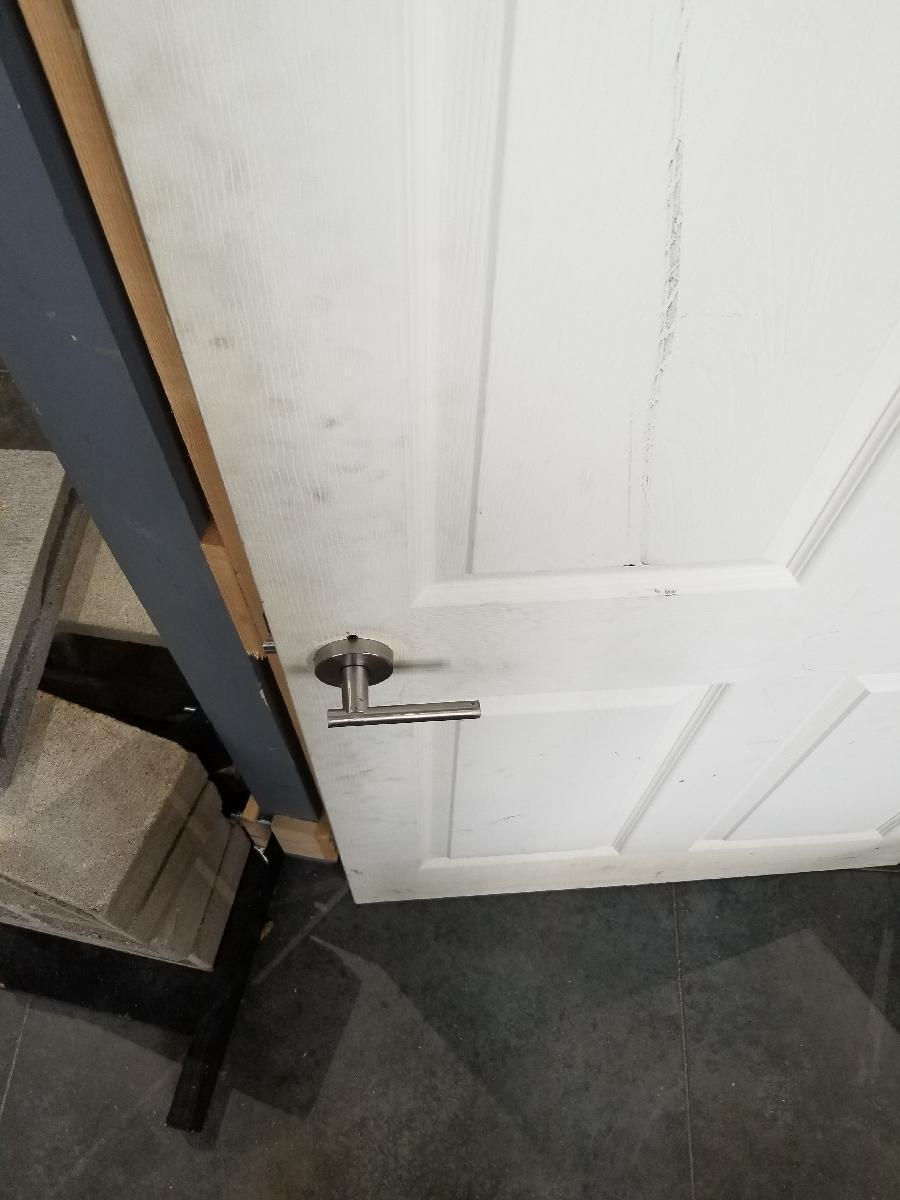door: (298, 0, 900, 899)
handle: (298, 630, 487, 734)
